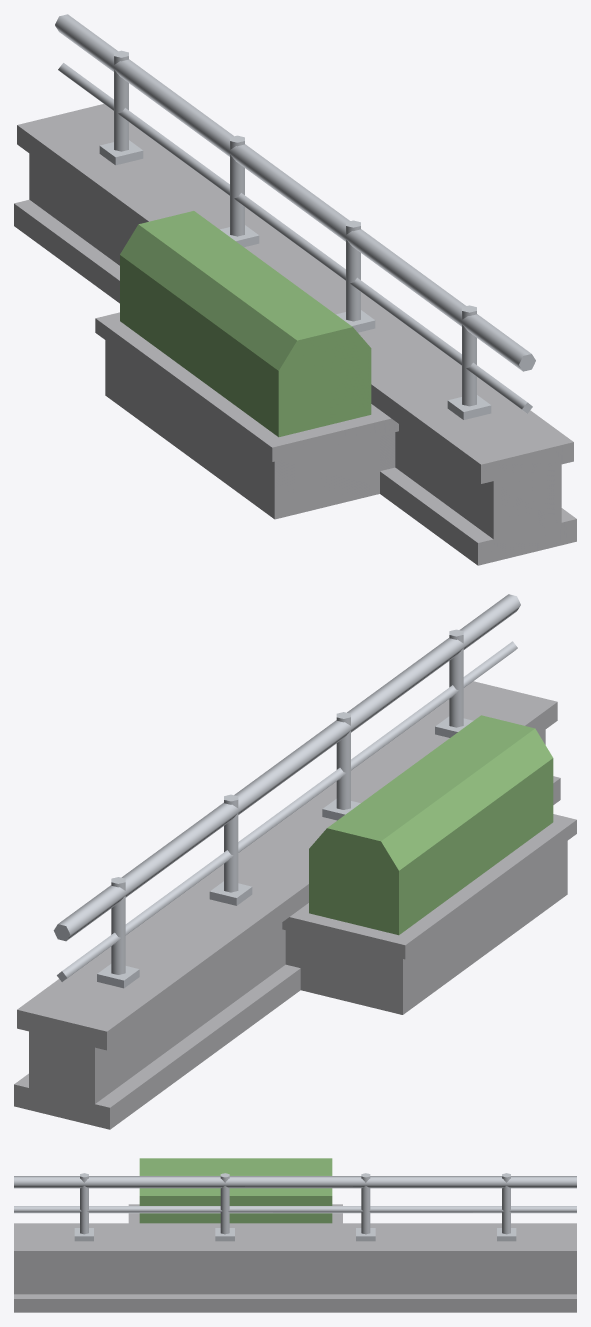
Rendered from village.citywall.glb.
3 views of the same model, one above another, from view 1: azimuth 30°, elevation 25°; view 2: azimuth 150°, elevation 25°; view 3: azimuth 270°, elevation 25° (orthographic). The views are drawn at different scales.
Parts seen in each view (by area): view 1: Stone, Leaf, Metal; view 2: Stone, Leaf, Metal; view 3: Stone, Metal, Leaf.
Boxes of the visible parts, x1,y1,x2,y2 form: Stone: (14,104,576,565); Leaf: (120,211,371,437); Metal: (55,14,535,419); Stone: (14,681,576,1129); Leaf: (309,715,553,935); Metal: (53,594,520,988); Stone: (14,1204,576,1312); Metal: (14,1173,576,1241); Leaf: (139,1158,332,1223).
Bounding box in the file's own units: 0.68 × 0.625 × 2.6.
